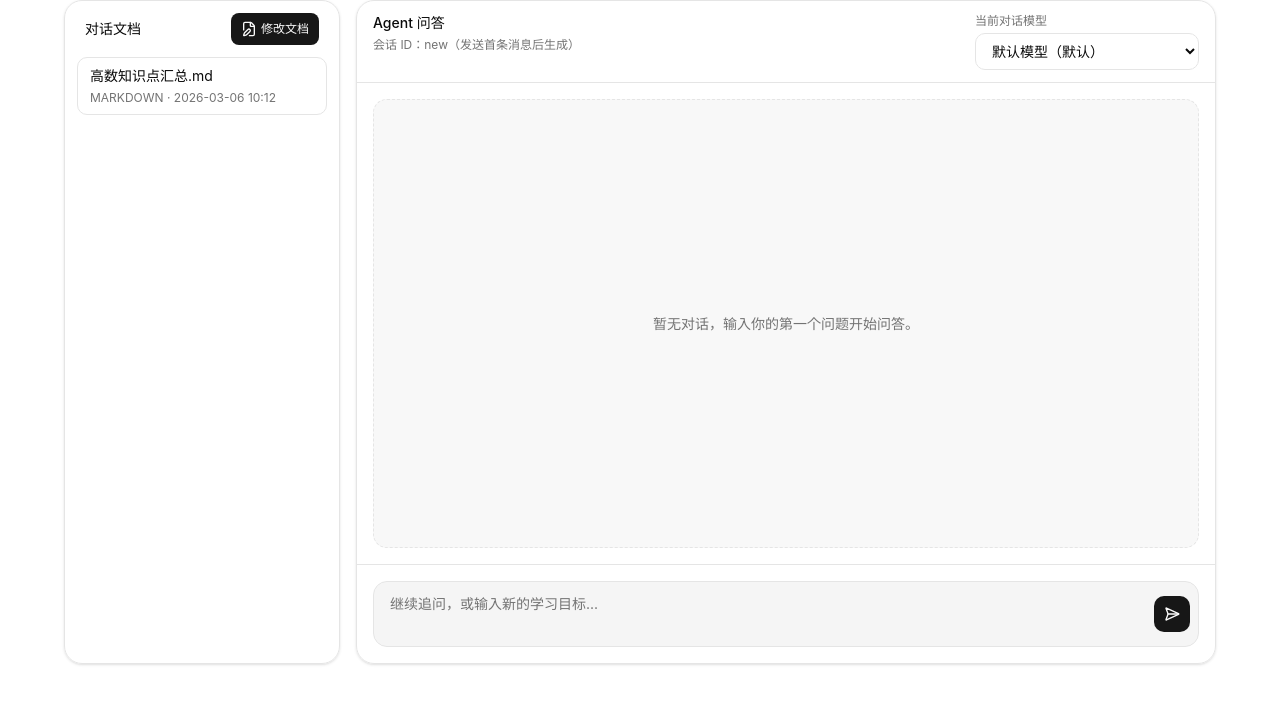
Test: ChatPage document states › shows pending state as not-loaded in new chat
Expected: the text "已加载" is not shown
Click the button "修改文档" at (275, 29), box [231,13,319,45]
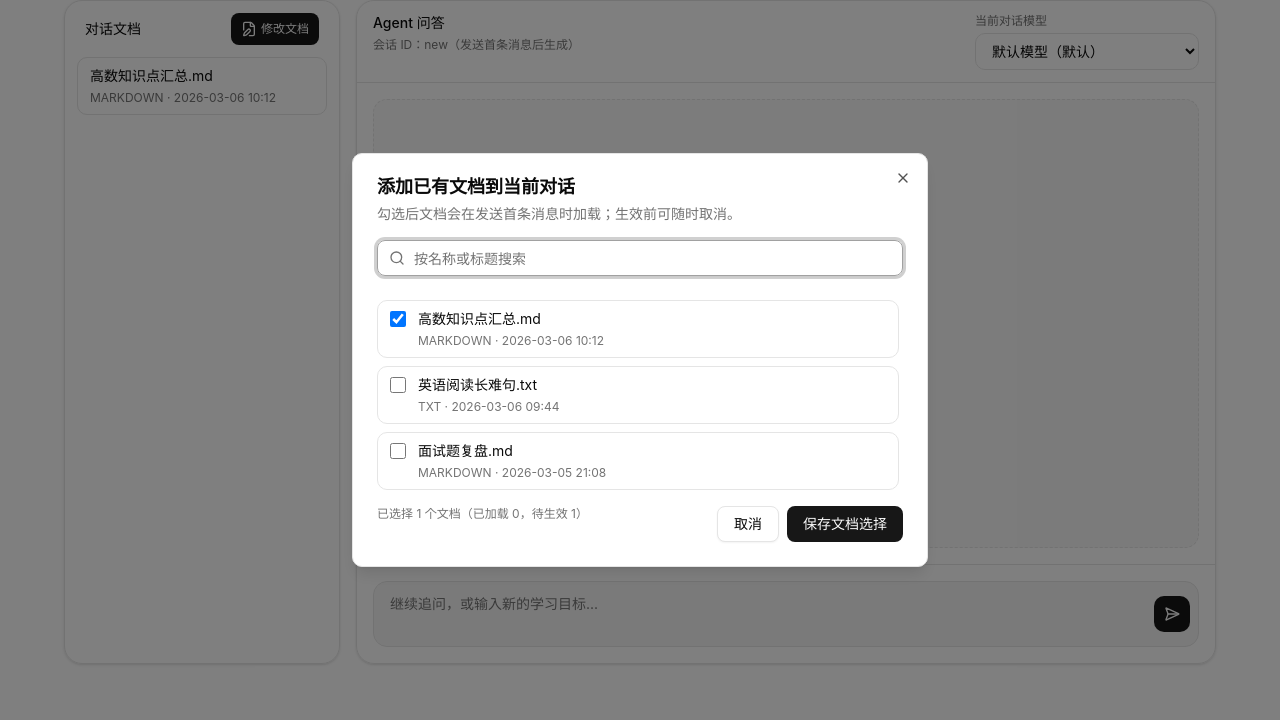
Now the checkbox labelled "高数知识点汇总.md MARKDOWN · 2026-03-06 10:12" is enabled, box [390,311,406,327]
